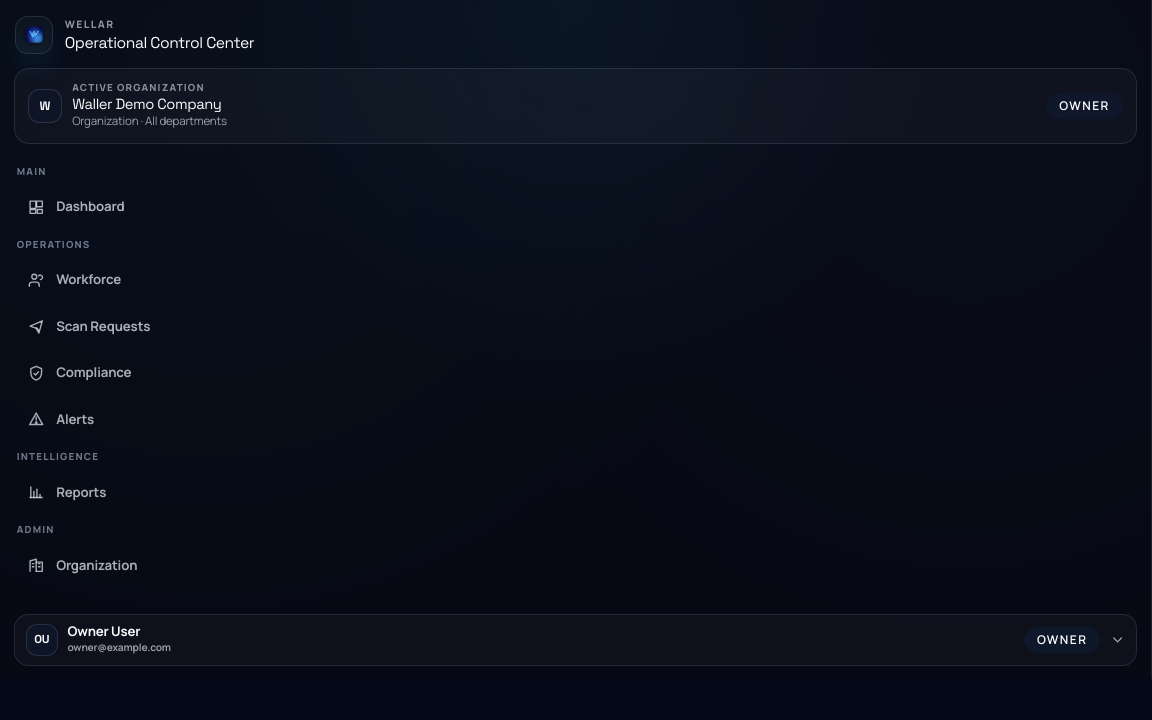
Test: SidebarComponent › shows Switch organization for multiple verified memberships and opens the compact picker
Click the button with class "app-sidebar__account-control" at (42, 640), box [14, 614, 1137, 666]
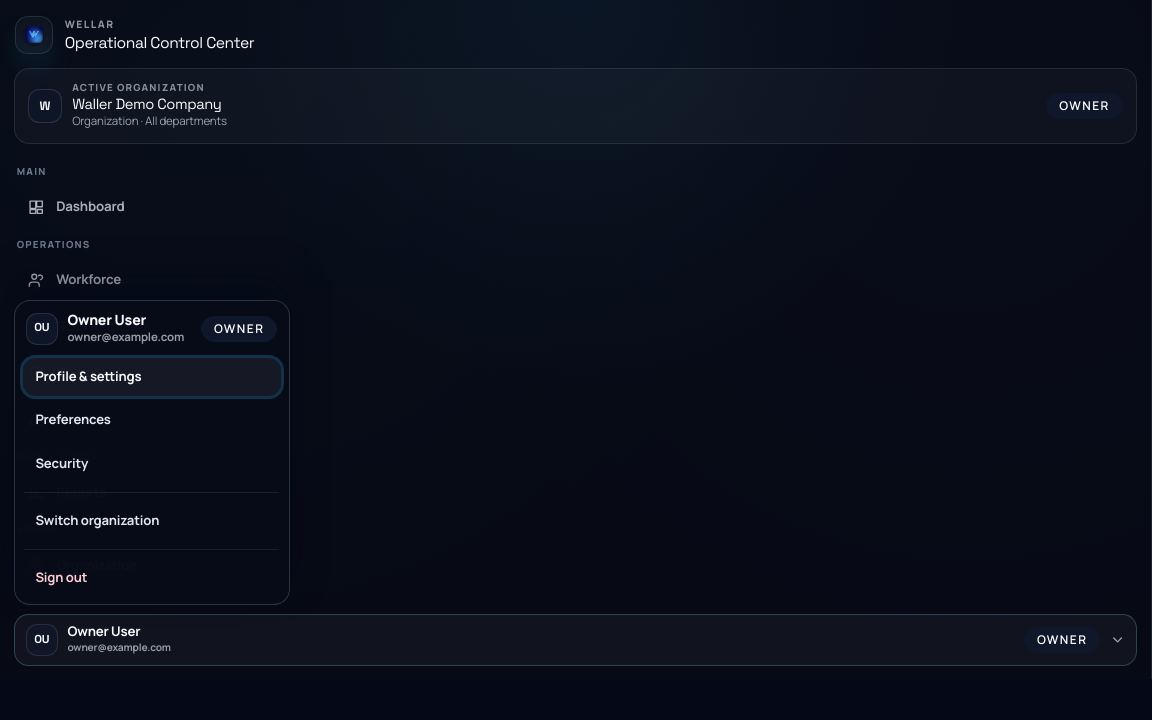
Expected: the element with class "app-sidebar__account-menu" shows "Switch organization"
Click the menu item "Switch organization" at (152, 521), box [23, 502, 281, 540]
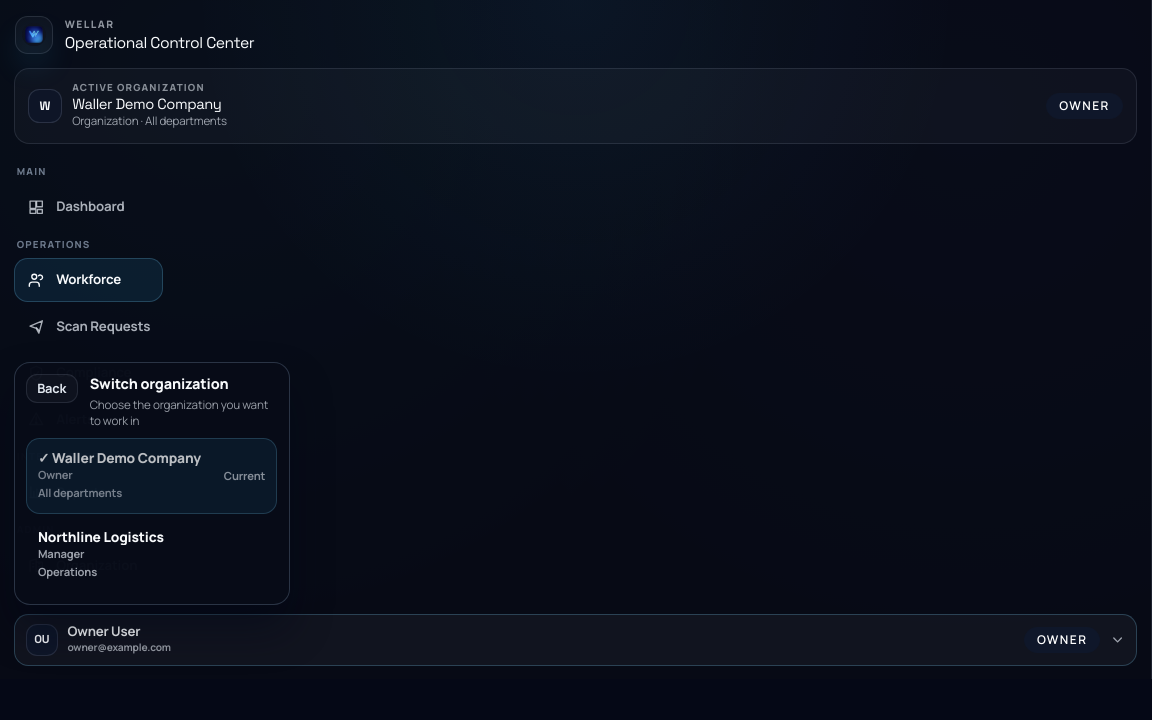
Expected: the dialog with class "app-sidebar__organization-switcher-panel" is shown, [14, 362, 290, 605]
Expected: the dialog with class "app-sidebar__organization-switcher-panel" shows "Switch organization", [90, 375, 228, 394]
Expected: the dialog with class "app-sidebar__organization-switcher-panel" shows "Choose the organization you want to work in", [90, 397, 268, 429]
